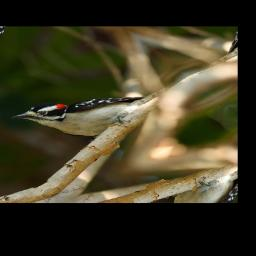Woodpecker: (7, 53, 184, 159)
